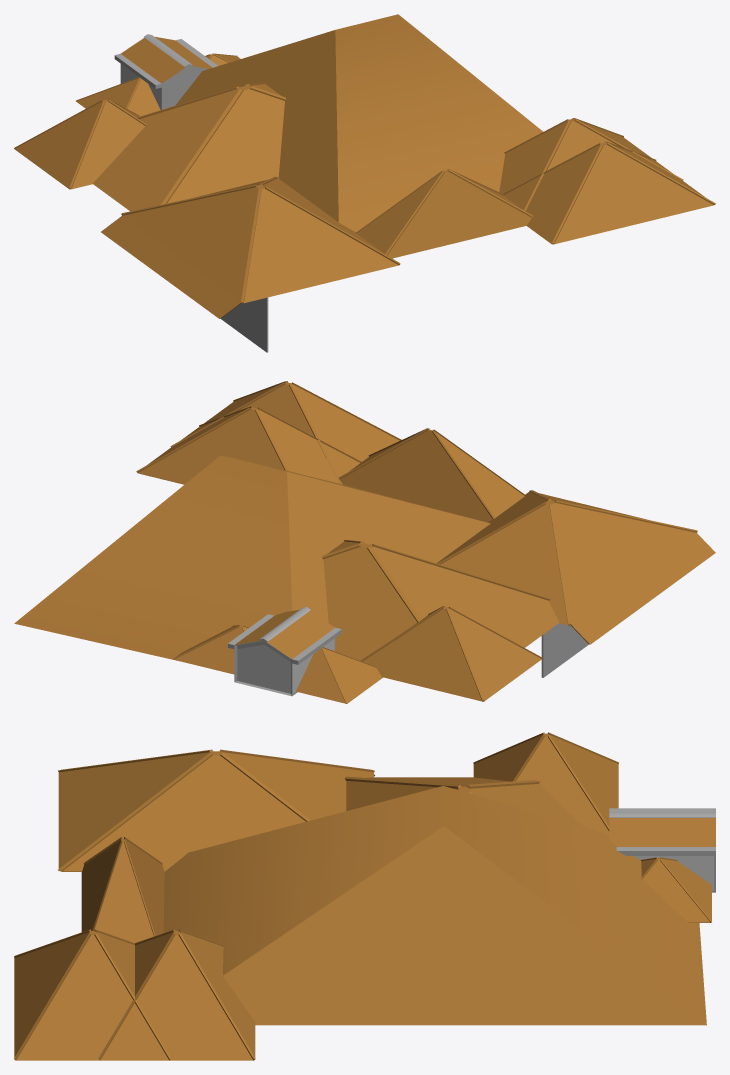
The model's file is atapgabungantimahluarfix.fbx.
3 views of the same model, one above another, from view 1: azimuth 30°, elevation 25°; view 2: azimuth 150°, elevation 25°; view 3: azimuth 270°, elevation 25° (orthographic). The views are drawn at different scales.
Visible parts, largest first — view 1: pCube586, pCube591, pasted__pCube586, pCube593, pCube594, pCube581, pCube592, pCube584, pCube587, pCube589; view 2: pCube586, pCube591, pasted__pCube586, pCube581, pCube594, pCube592, pCube584, pCube593, pCube587, pCube582, pCube589; view 3: pCube586, pCube591, pCube593, pCube592, pCube581, pCube594, pCube584, pasted__pCube586, pCube582.
Boxes of the visible parts, left/top/right/bottom form: pCube586: left=175, top=14, right=542, bottom=232; pCube591: left=101, top=176, right=400, bottom=318; pasted__pCube586: left=93, top=82, right=286, bottom=211; pCube593: left=503, top=141, right=715, bottom=244; pCube594: left=356, top=169, right=533, bottom=258; pCube581: left=14, top=98, right=146, bottom=189; pCube592: left=499, top=118, right=683, bottom=211; pCube584: left=114, top=34, right=217, bottom=109; pCube587: left=76, top=77, right=160, bottom=116; pCube589: left=220, top=297, right=268, bottom=352; pCube586: left=14, top=455, right=490, bottom=660; pCube591: left=436, top=490, right=715, bottom=644; pasted__pCube586: left=322, top=540, right=559, bottom=660; pCube581: left=360, top=606, right=542, bottom=701; pCube594: left=338, top=428, right=525, bottom=522; pCube592: left=136, top=406, right=361, bottom=484; pCube584: left=228, top=607, right=341, bottom=696; pCube593: left=170, top=381, right=401, bottom=484; pCube587: left=296, top=647, right=382, bottom=703; pCube582: left=173, top=625, right=248, bottom=674; pCube589: left=541, top=623, right=588, bottom=677; pCube586: left=163, top=786, right=706, bottom=1025; pCube591: left=58, top=749, right=374, bottom=871; pCube593: left=14, top=929, right=171, bottom=1060; pCube592: left=98, top=929, right=255, bottom=1060; pCube581: left=473, top=732, right=618, bottom=834; pCube594: left=81, top=837, right=164, bottom=942; pCube584: left=609, top=808, right=715, bottom=892; pasted__pCube586: left=344, top=776, right=583, bottom=826; pCube582: left=640, top=857, right=711, bottom=922.
Bounding box in the file's own units: 46.19 × 16.62 × 45.36.
